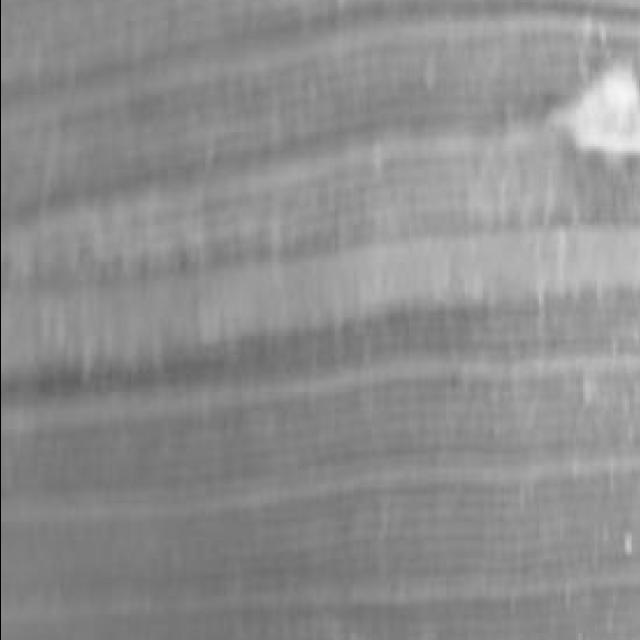Leaf_Blast: (457, 32, 640, 214)
